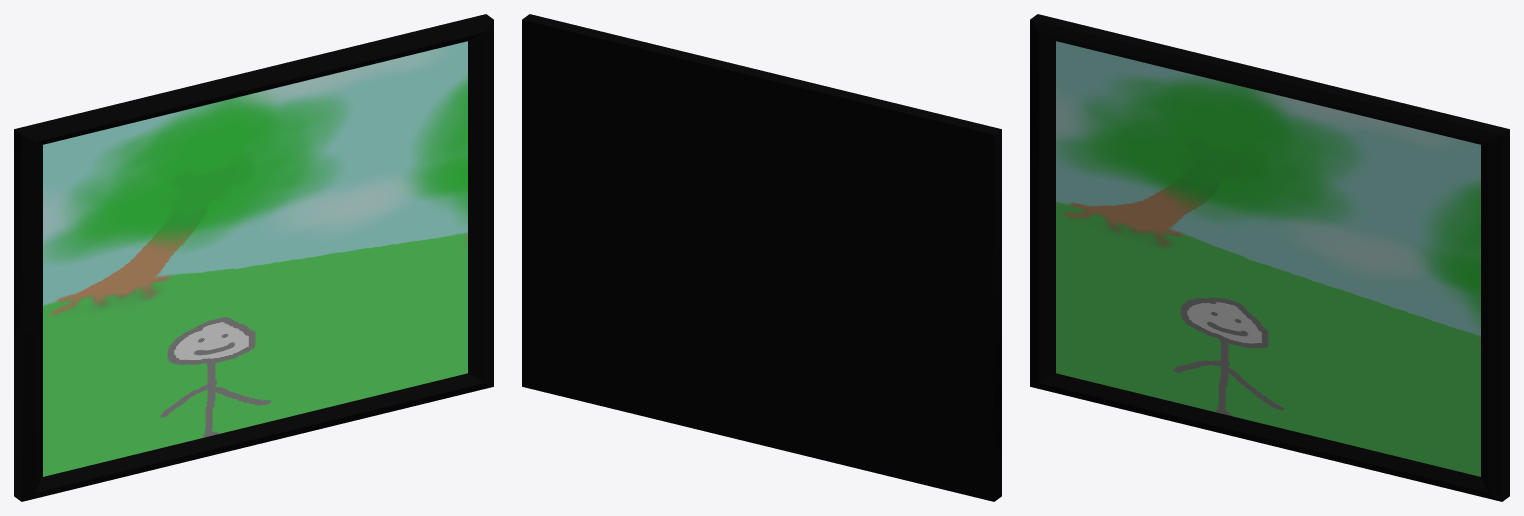
Rendered from Painting_Middle.obj.
3 renders of one model, left to right at view 1: azimuth 30°, elevation 25°; view 2: azimuth 150°, elevation 25°; view 3: azimuth 330°, elevation 25°, orthographic.
Visible parts, largest first — view 1: Painting_Middle; view 2: Painting_Middle; view 3: Painting_Middle.
Boxes of the visible parts, <box> form: Painting_Middle: <box>14,14,493,501</box>; Painting_Middle: <box>522,14,1001,501</box>; Painting_Middle: <box>1030,14,1509,501</box>.
Size of the model in its own units: 1.35 by 1 by 0.0494.
